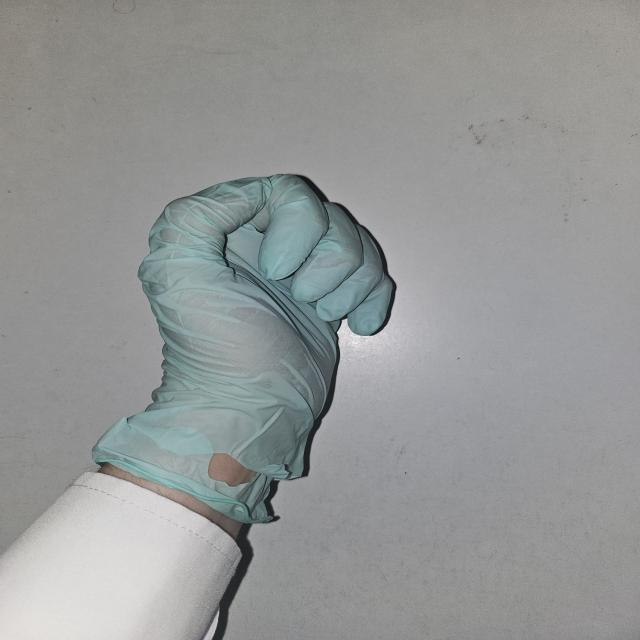gloves_damaged: (91, 172, 399, 524)
